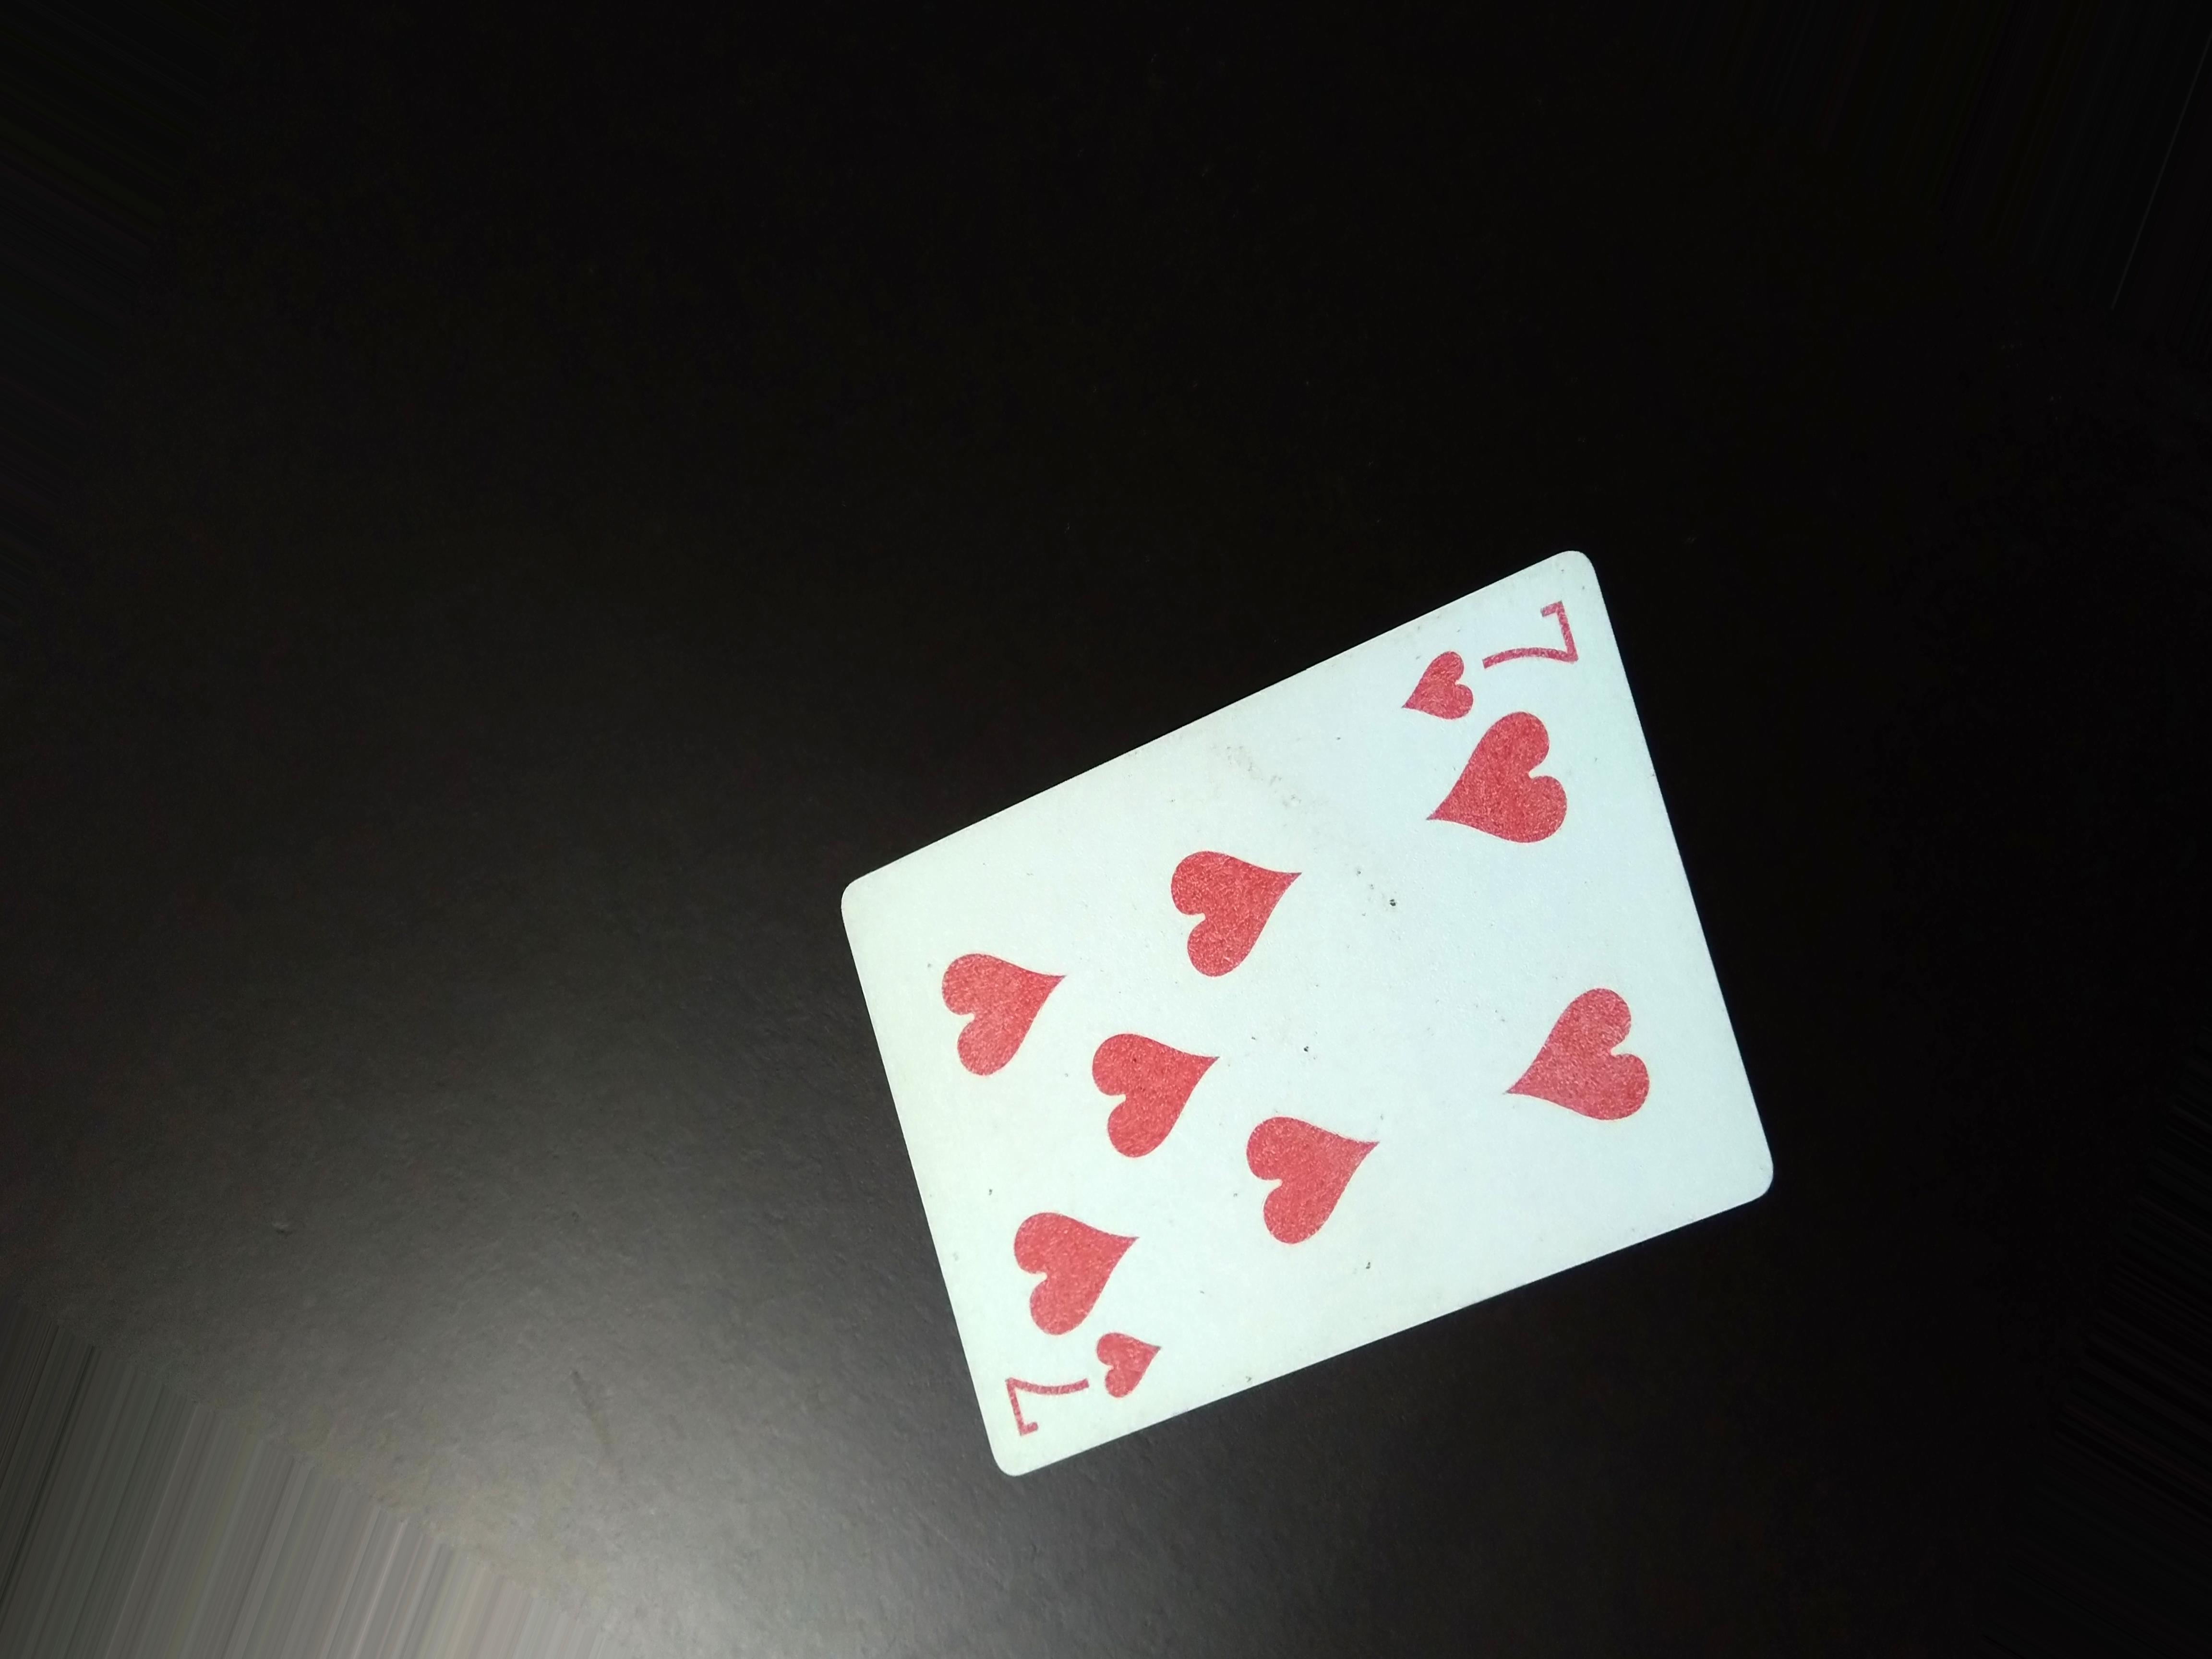7H: (993, 1331, 1188, 1436)
